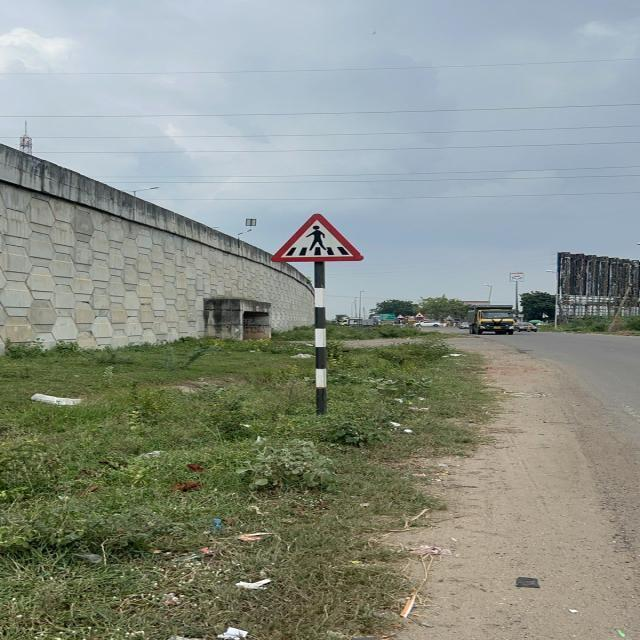pedestrian crossing: (271, 212, 359, 260)
